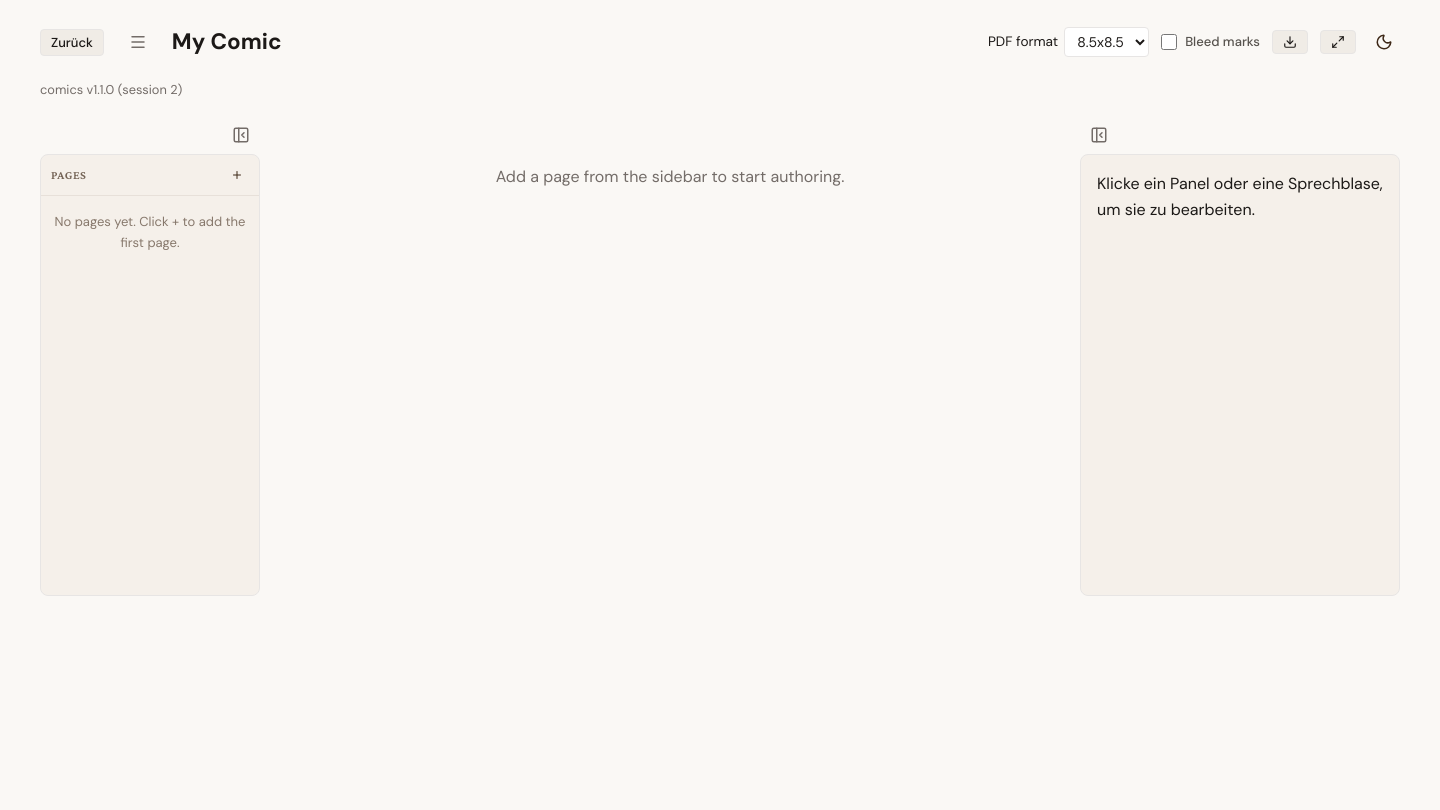
Test: ComicBookEditor (Session 2 C6 full editor) › surfaces an error in the editor body when api.pages.create fails
Click the button with test id "comic-book-editor-add-page". click: point(237, 176)
box: [225,164,249,188]
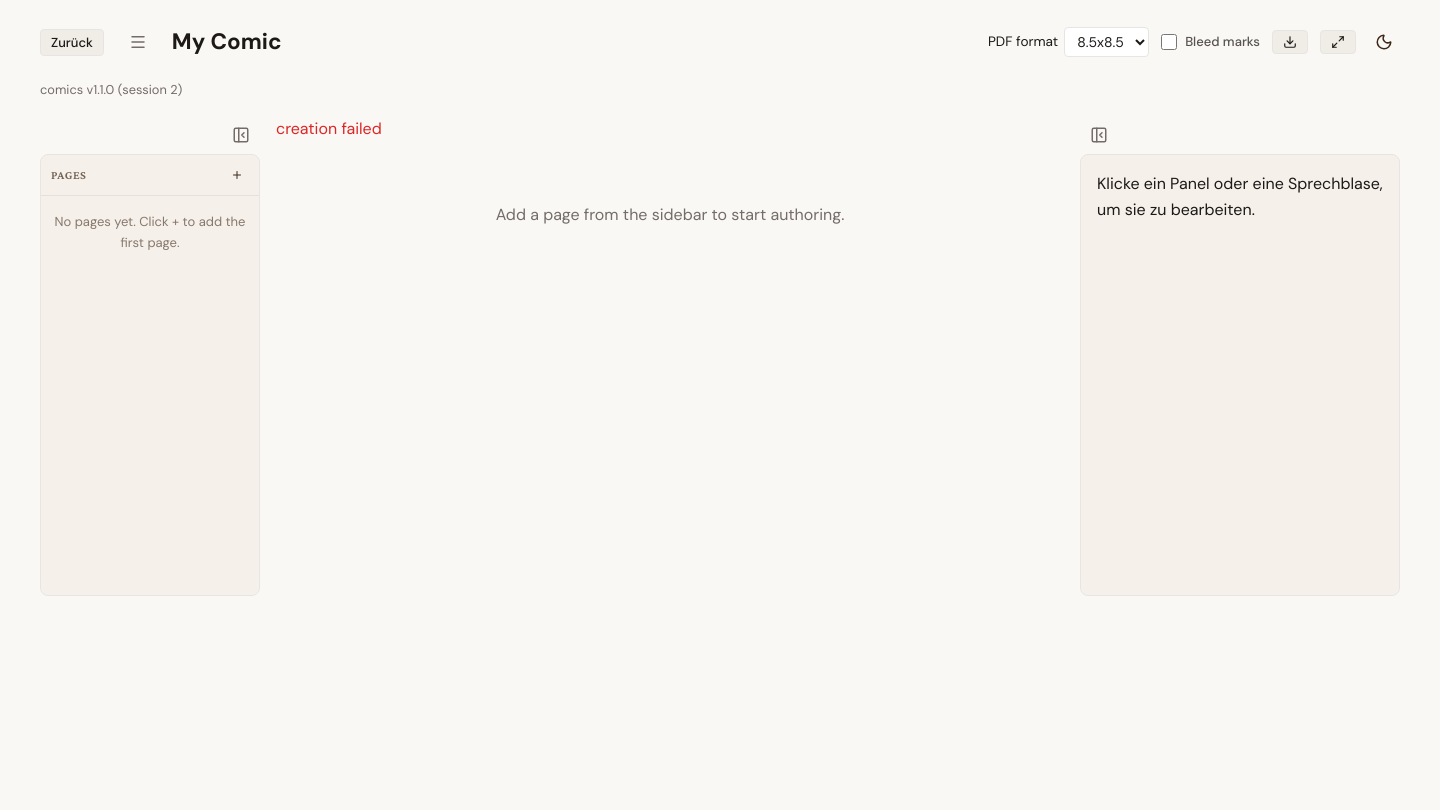
Now the message with test id "comic-book-editor-pages-error" reads "creation failed", box [276,118,382,140]
